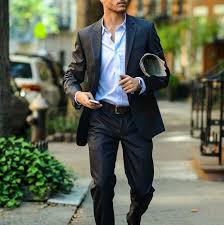F_M_suit jacket: (67, 12, 171, 148)
F_belt: (93, 97, 145, 119)
F_dress pants: (83, 116, 163, 224)
